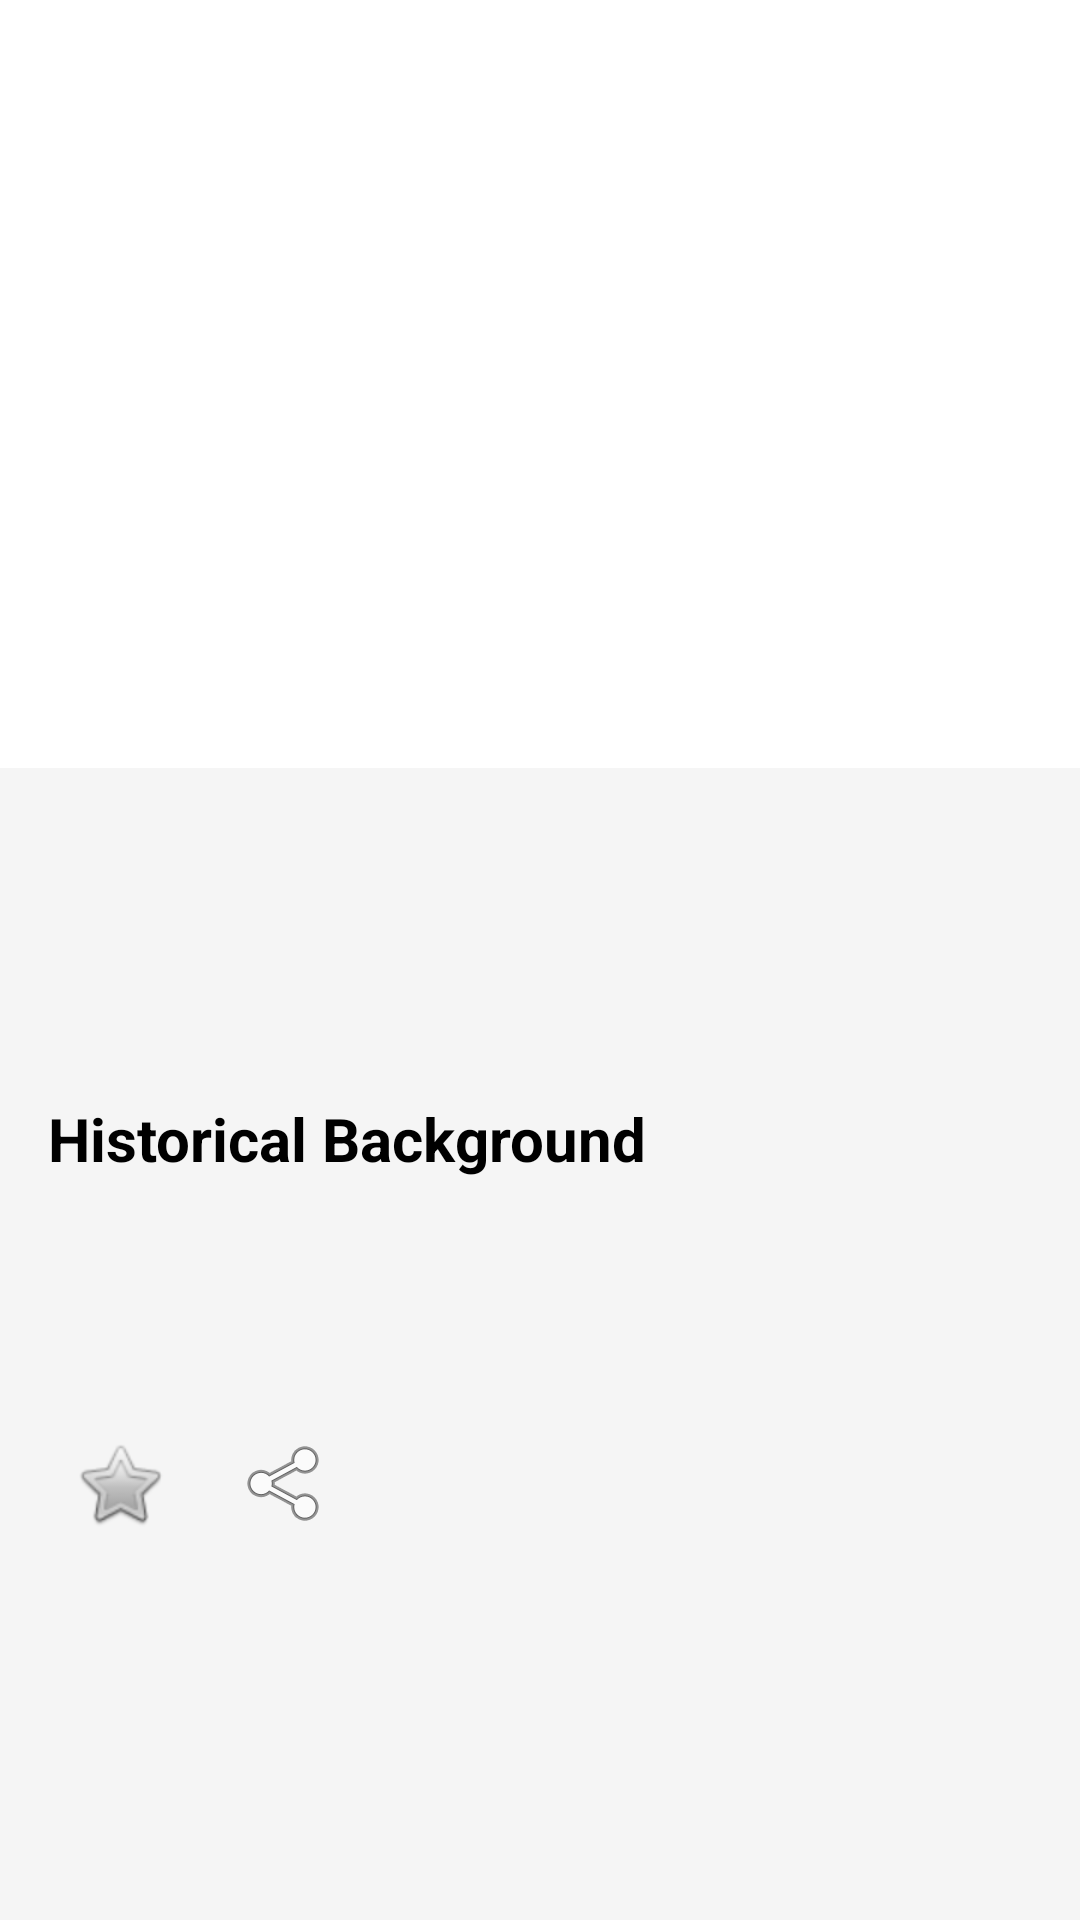

Icons on this 1080*1920 Android screen, each with the point to tap as point (x, y):
share: point (283, 1483)
star off: point (121, 1485)
